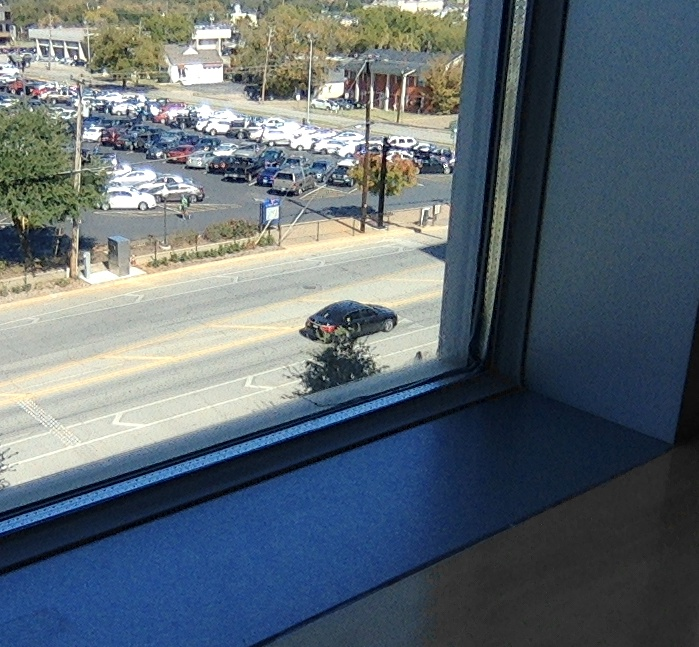car: (300, 300, 399, 347)
